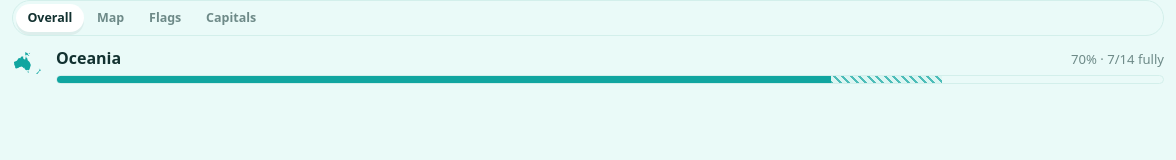
Test: FamilyRegionBreakdown — Grandmaster reward › gilds a certified family lens (a crown, no launch) but launches on an uncertified one
// Flags (certified) → the crown marker, and no "prove it" launch on this lens.
Click the button "Flags": (165, 18) [138,4,192,32]
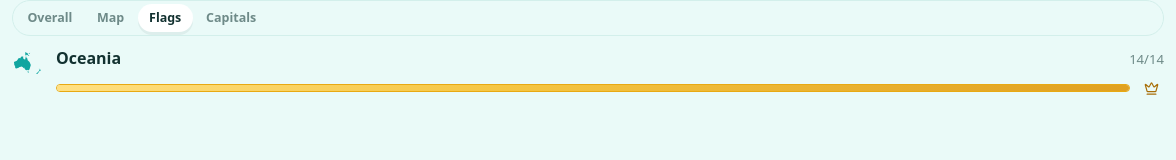
Now the element named "Grandmaster" is shown, box [1144,80,1159,96]
// Map (uncertified, fully mastered) → exactly one launch.
Click the button "Map": (111, 18) [86,4,136,32]
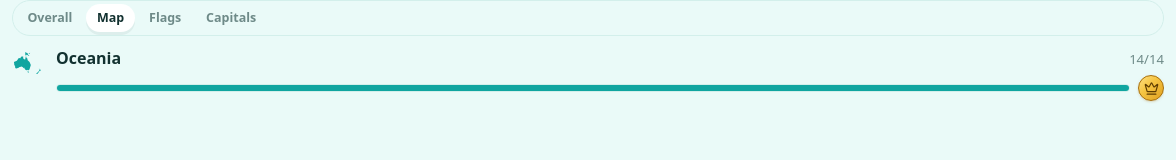
Now the number of buttons named "Grandmaster Run for Oceania" is 1, box [1138,75,1164,101]
